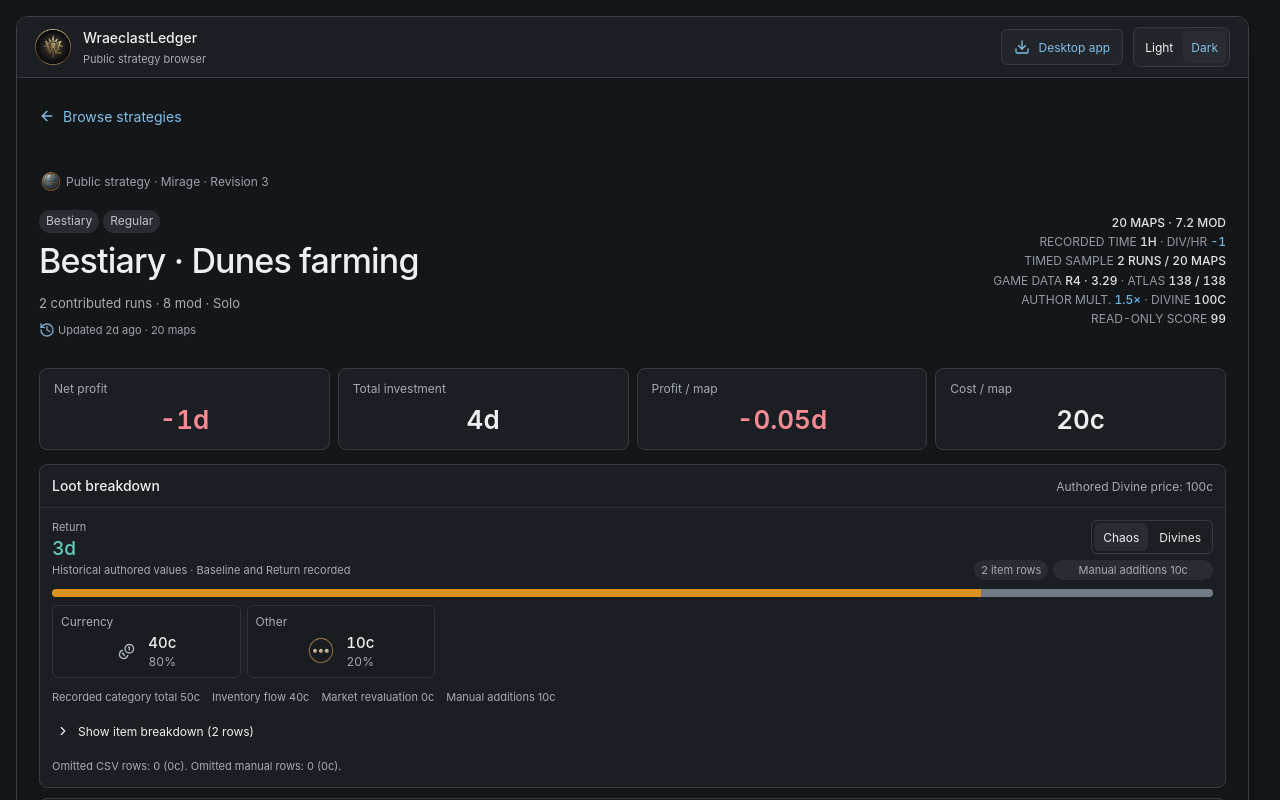
Test case: default rendered browser interactions › uses recorded prices for the loot-unit switch and preserves category proportions
This screenshot has width=1280, height=800.
What coordinates should you click on to do the following:
click the button "Divines"
I would click on:
 (1180, 537)
Its box is top-left (1150, 523), bottom-right (1210, 551).
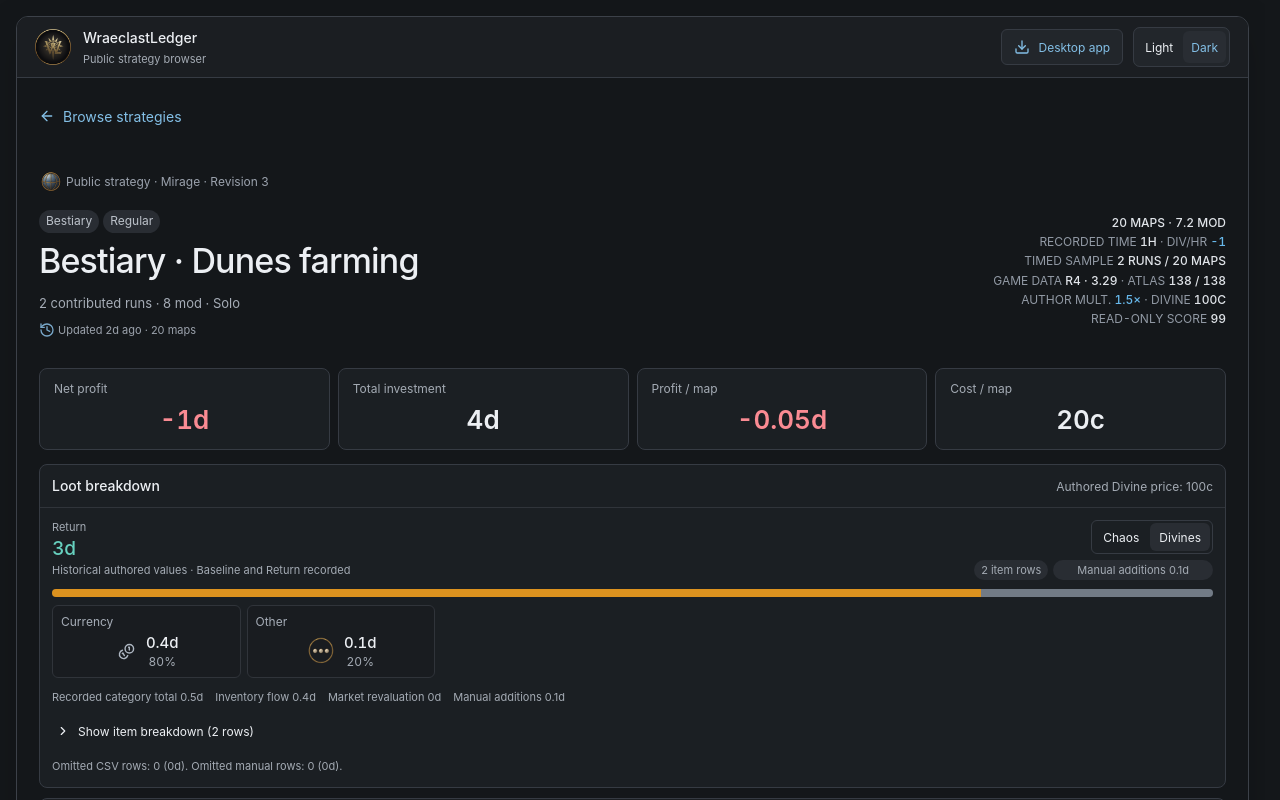
Expected: the text "80%" is shown, top-left (149, 654), bottom-right (176, 669)
Expected: the text "0.4d" is shown, top-left (146, 633), bottom-right (179, 652)
What coordinates should you click on to do the following:
click the button "Chaos"
I would click on:
 (1121, 537)
Its box is top-left (1094, 523), bottom-right (1148, 551).
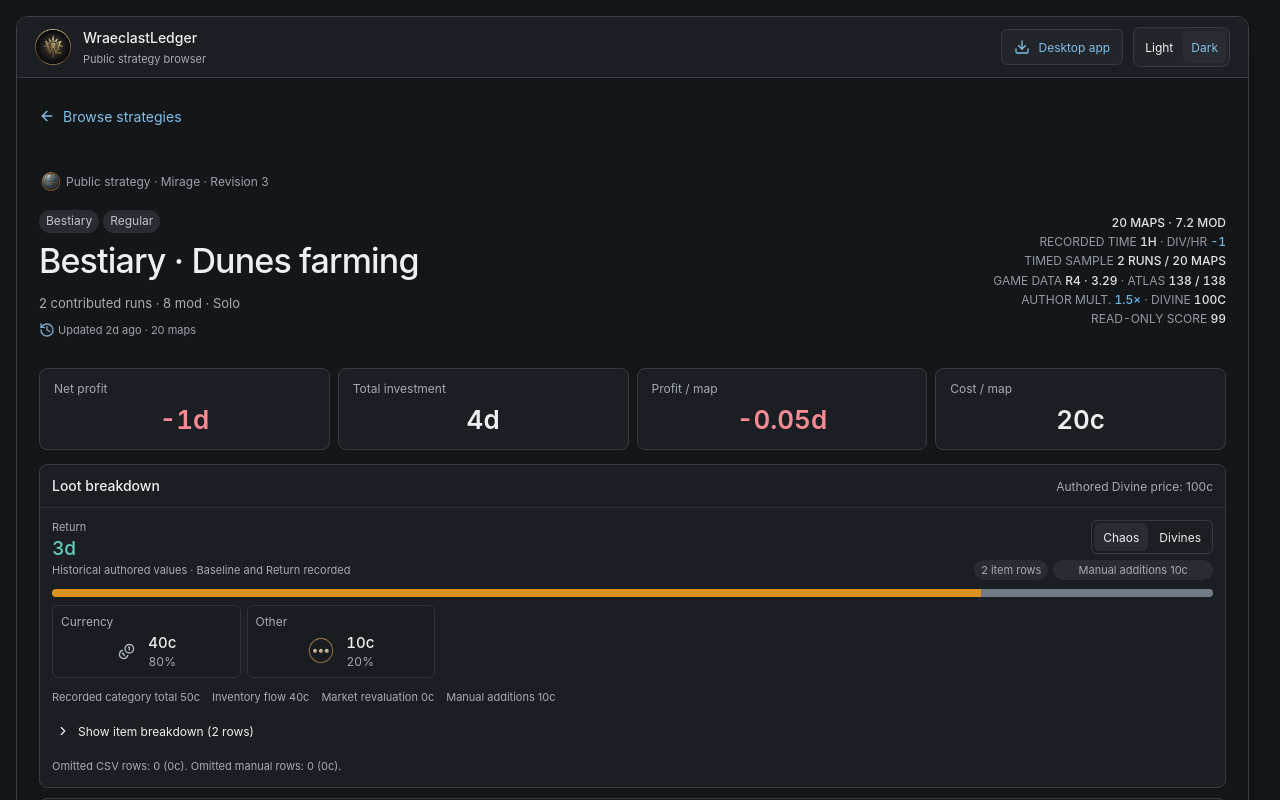
Expected: the text "contributed runs" is shown, top-left (39, 295), bottom-right (240, 311)
Expected: the text "40c" is shown, top-left (146, 633), bottom-right (179, 652)
